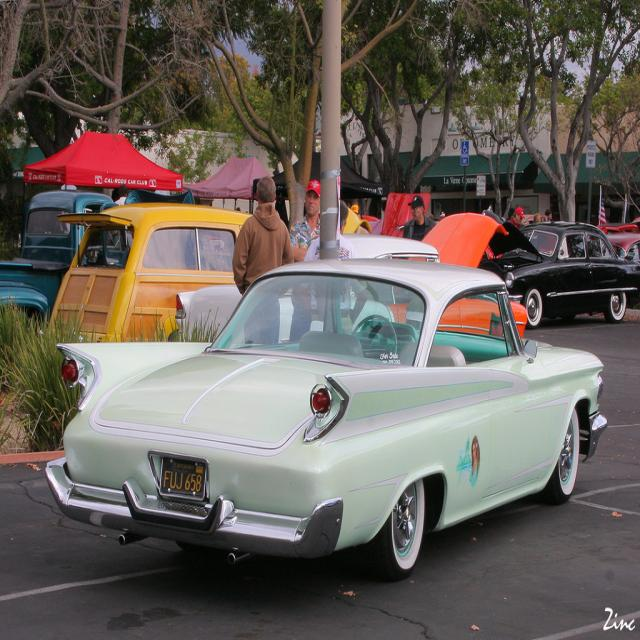car: (54, 244, 601, 589)
